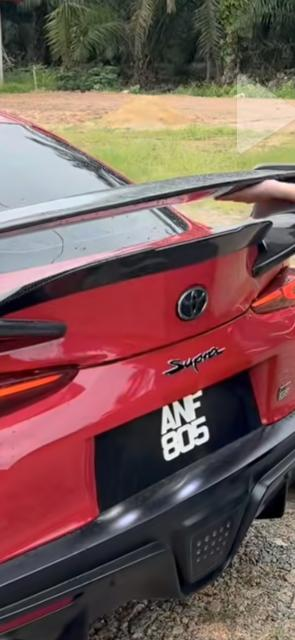License_Plate: (99, 358, 265, 508)
car: (1, 107, 295, 640)
